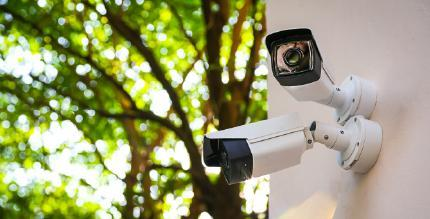------------------------------: (198, 108, 353, 183), (263, 26, 380, 119)
